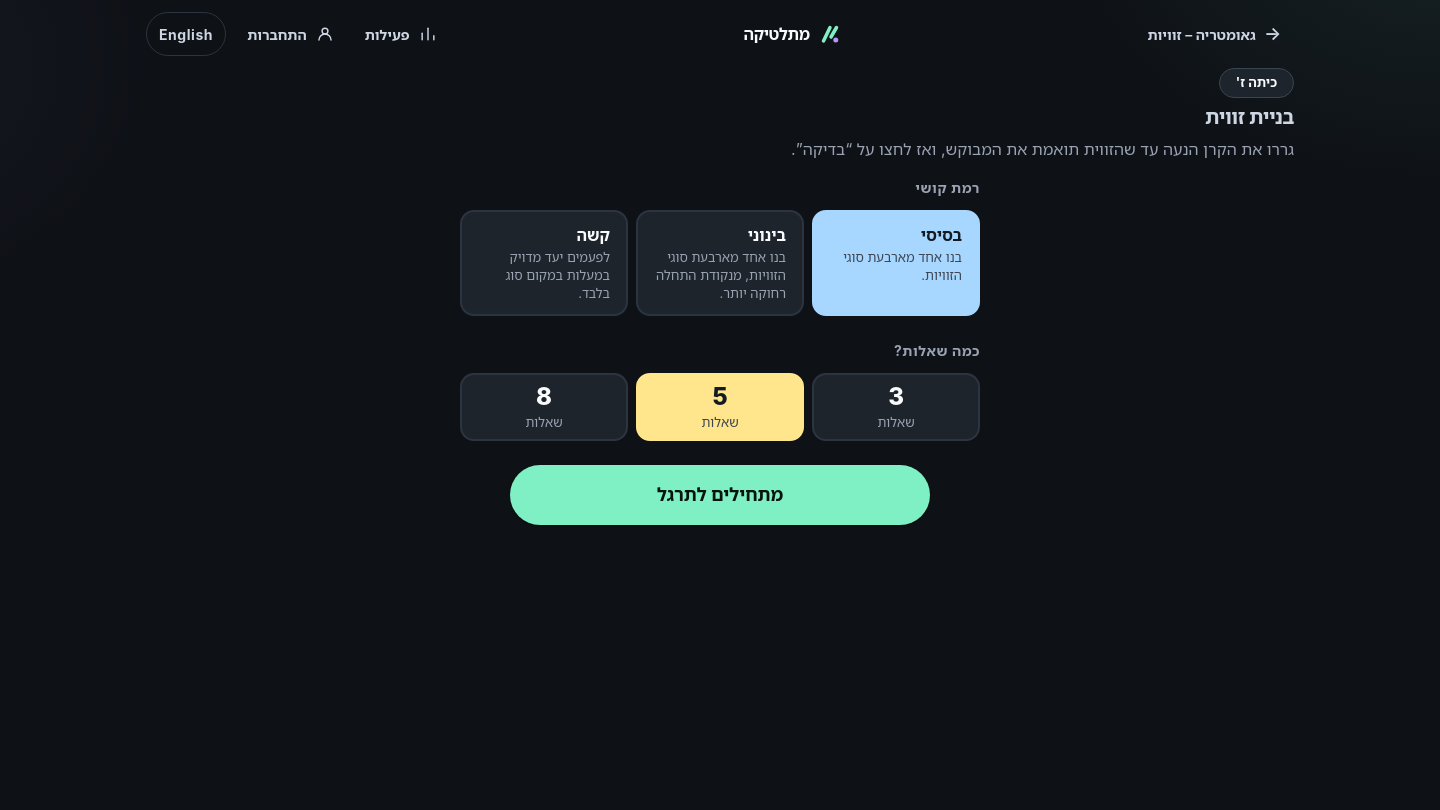
Test: Construct an Angle training activity (drag lab) › forces the live readout and prompt text to stay readable on a Hebrew RTL page
Click the button with test id "tr-start" at [720, 494], box 510,464 -> 930,524
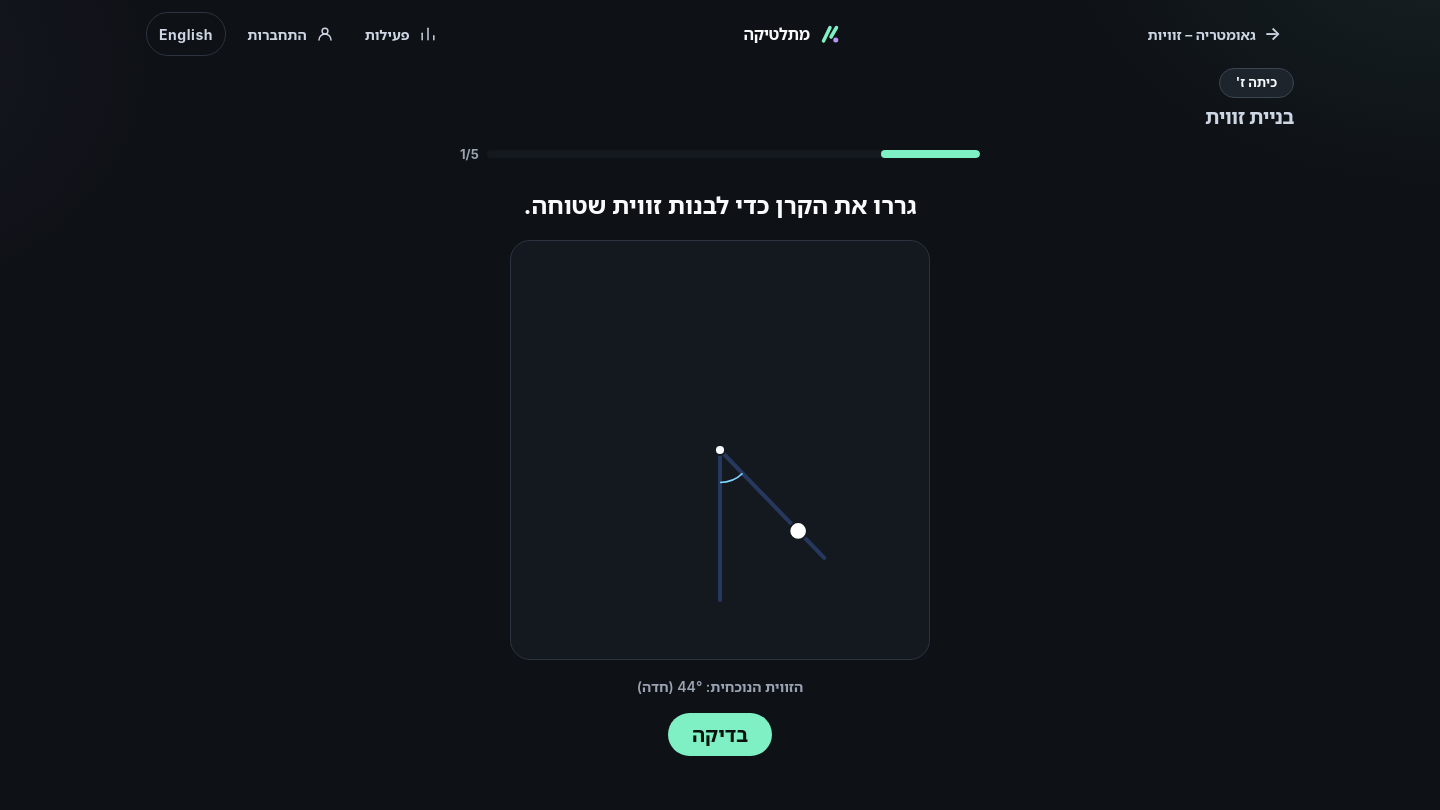
Result: the text "הזווית הנוכחית: 44° (חדה)" is shown at 637,676 -> 803,697
